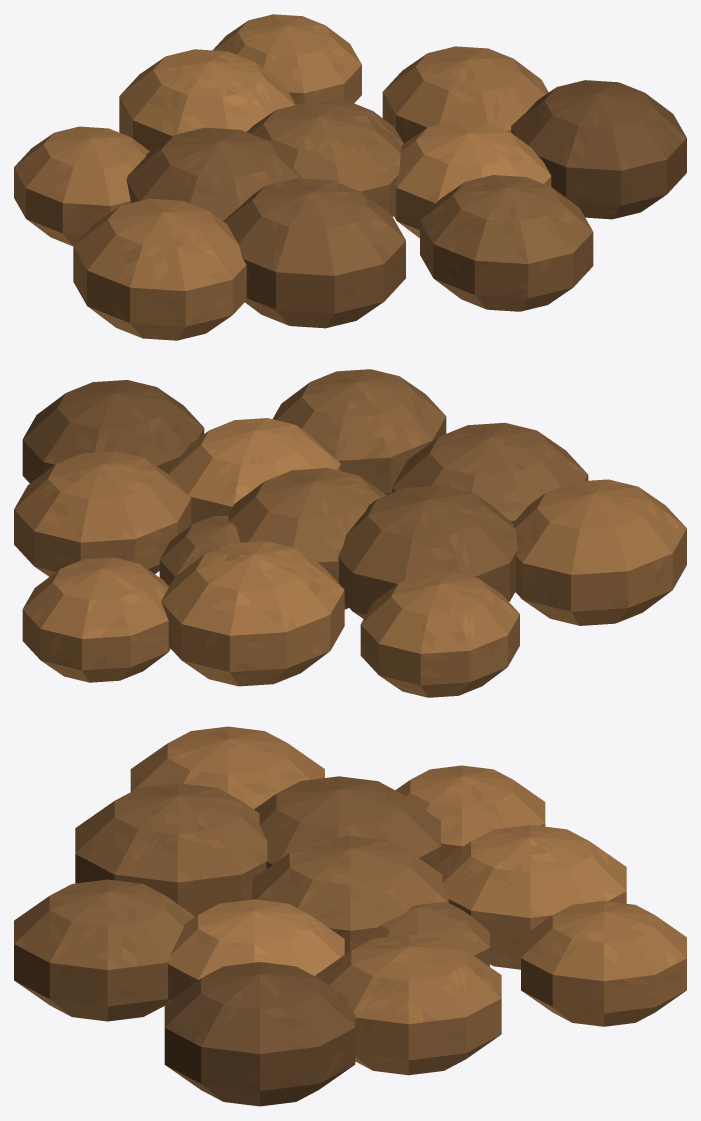
The model's file is acorns_blanched.glb.
The picture shows the model from 3 angles, top to bottom: view 1: azimuth 30°, elevation 25°; view 2: azimuth 150°, elevation 25°; view 3: azimuth 270°, elevation 25°; orthographic projection. The views are drawn at different scales.
Visible parts, largest first — view 1: block_grain 5, block_grain 10, block_grain 8, block_grain 11, block_grain 4, block_grain 7, block_grain 6, block_grain 2, block_grain 0, block_grain 3, block_grain 9, block_grain 1; view 2: block_grain 4, block_grain 10, block_grain 6, block_grain 7, block_grain 2, block_grain 9, block_grain 8, block_grain 11, block_grain 5, block_grain 0, block_grain 3, block_grain 1; view 3: block_grain 11, block_grain 8, block_grain 6, block_grain 5, block_grain 9, block_grain 4, block_grain 0, block_grain 2, block_grain 3, block_grain 10, block_grain 7, block_grain 1.
Part boxes in pixels (x1=…): block_grain 5: x1=223, y1=178, x2=405, y2=328; block_grain 10: x1=73, y1=198, x2=247, y2=340; block_grain 8: x1=420, y1=175, x2=593, y2=311; block_grain 11: x1=511, y1=80, x2=686, y2=219; block_grain 4: x1=119, y1=49, x2=295, y2=151; block_grain 7: x1=14, y1=126, x2=149, y2=246; block_grain 6: x1=382, y1=46, x2=548, y2=143; block_grain 2: x1=126, y1=127, x2=302, y2=220; block_grain 0: x1=246, y1=103, x2=401, y2=216; block_grain 3: x1=394, y1=121, x2=551, y2=237; block_grain 9: x1=213, y1=14, x2=361, y2=104; block_grain 1: x1=319, y1=101, x2=403, y2=145; block_grain 4: x1=161, y1=541, x2=344, y2=686; block_grain 10: x1=512, y1=479, x2=686, y2=625; block_grain 6: x1=14, y1=451, x2=191, y2=576; block_grain 7: x1=360, y1=572, x2=519, y2=697; block_grain 2: x1=338, y1=485, x2=517, y2=618; block_grain 9: x1=22, y1=557, x2=170, y2=682; block_grain 8: x1=273, y1=369, x2=446, y2=494; block_grain 11: x1=22, y1=380, x2=204, y2=483; block_grain 5: x1=392, y1=422, x2=588, y2=522; block_grain 0: x1=228, y1=468, x2=386, y2=609; block_grain 3: x1=168, y1=418, x2=340, y2=524; block_grain 1: x1=159, y1=515, x2=240, y2=586; block_grain 11: x1=164, y1=962, x2=355, y2=1106; block_grain 8: x1=14, y1=879, x2=195, y2=1021; block_grain 6: x1=315, y1=934, x2=501, y2=1075; block_grain 5: x1=75, y1=783, x2=267, y2=916; block_grain 9: x1=521, y1=901, x2=686, y2=1026; block_grain 4: x1=434, y1=825, x2=626, y2=969; block_grain 0: x1=252, y1=836, x2=448, y2=954; block_grain 2: x1=254, y1=776, x2=440, y2=868; block_grain 3: x1=167, y1=899, x2=344, y2=1000; block_grain 10: x1=130, y1=726, x2=324, y2=809; block_grain 7: x1=395, y1=765, x2=545, y2=861; block_grain 1: x1=360, y1=902, x2=489, y2=966.
Size of the model in its own units: 0.0716 by 0.0139 by 0.0656.
1 material, 1 textured.
